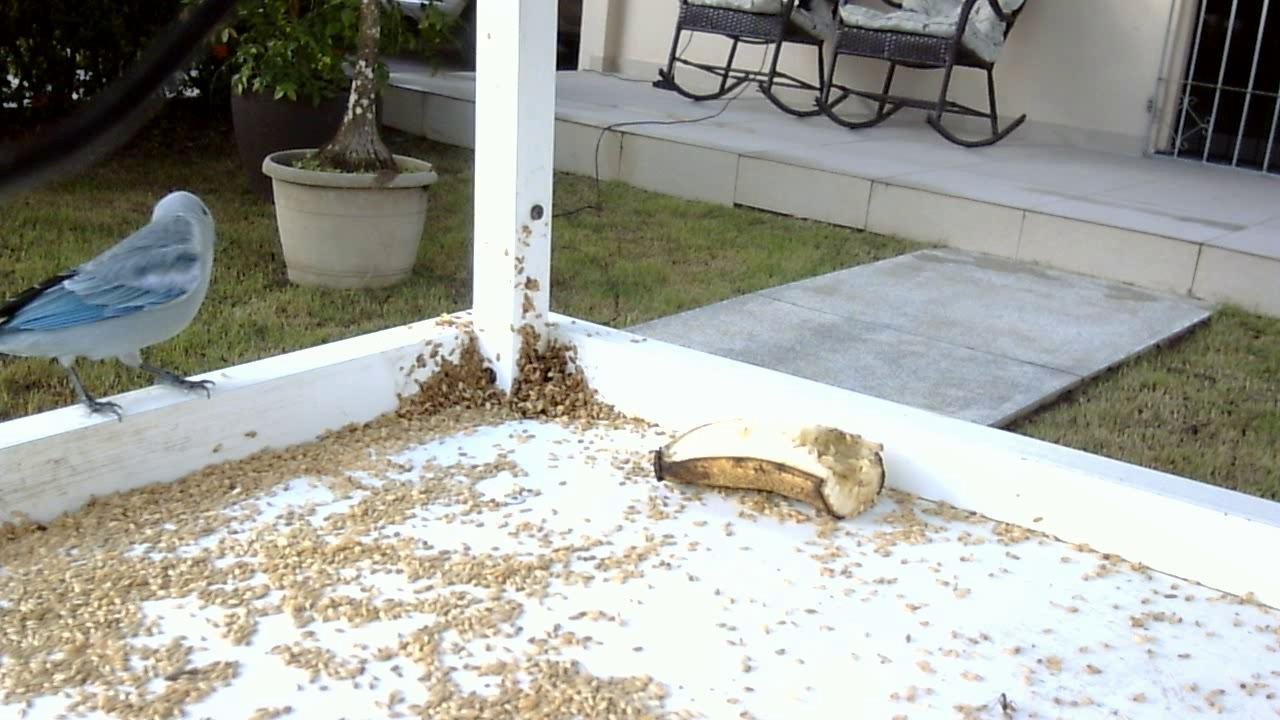sanhaco_da_amazonia: (1, 181, 234, 433)
